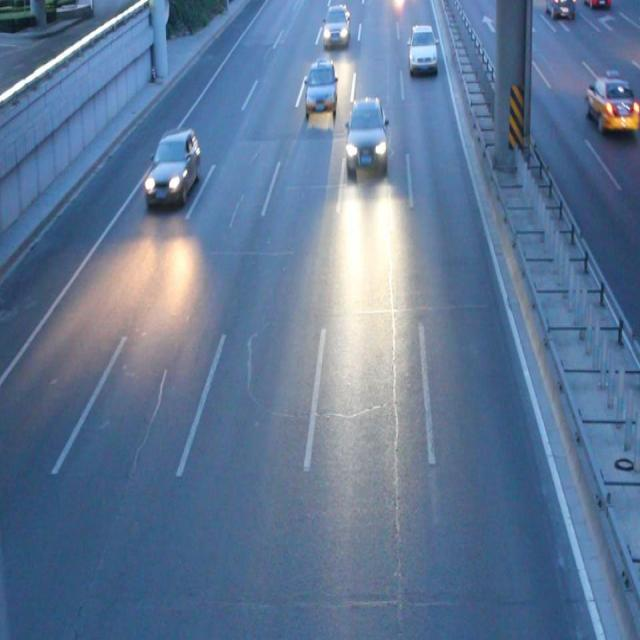car: (145, 129, 199, 203), (345, 99, 386, 169), (584, 78, 640, 129), (305, 64, 336, 114), (408, 26, 436, 70), (322, 1, 349, 44), (543, 1, 572, 19)
